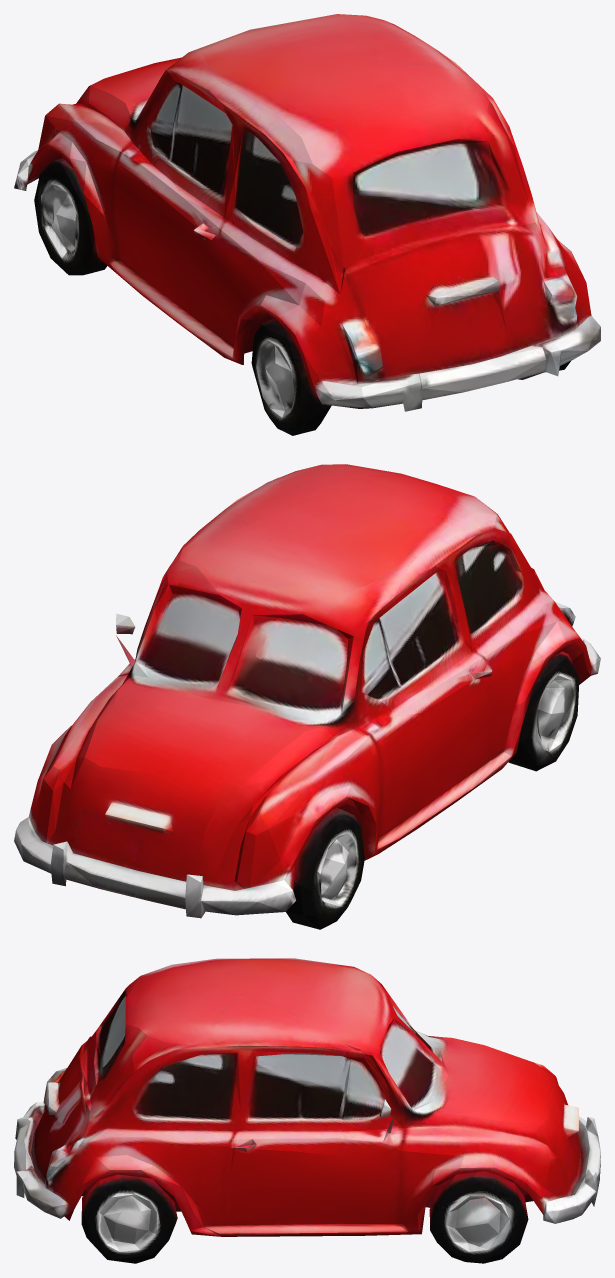
The model's file is car.glb.
3 views of the same model, one above another, from view 1: azimuth 30°, elevation 25°; view 2: azimuth 150°, elevation 25°; view 3: azimuth 270°, elevation 25° (orthographic). The views are drawn at different scales.
Visible parts, largest first — view 1: model; view 2: model; view 3: model.
Part boxes in pixels (x1,y1,x2,y2): model: (14, 14, 600, 435); model: (14, 464, 600, 929); model: (14, 958, 600, 1263).
Size of the model in its own units: 0.9074 by 0.8145 by 1.9.
Materials: 1 (1 with a texture image).
